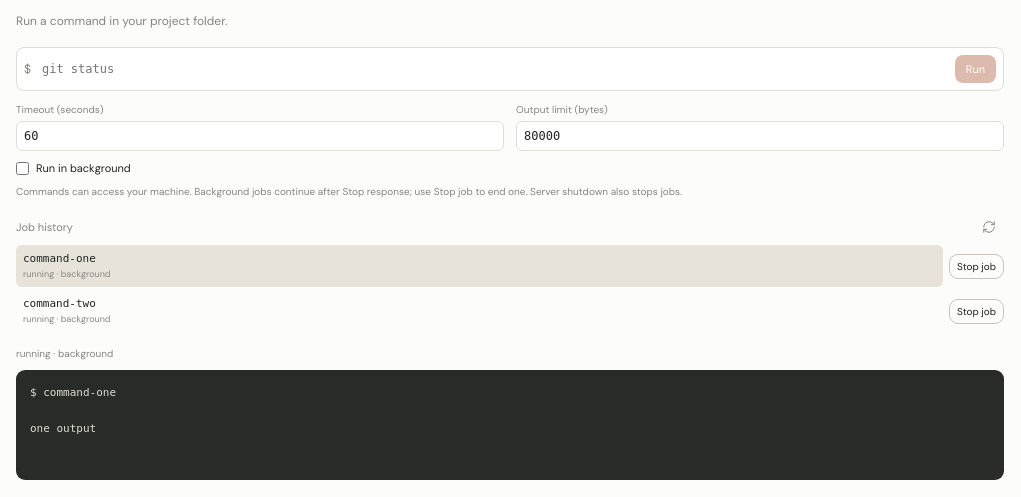
Test case: ignores an old selected-job response after selecting another job
The width and height of the screenshot is (1021, 497).
Click the button with aria-label "Show job command-two · running" at (59, 304), box 16,290 -> 943,332
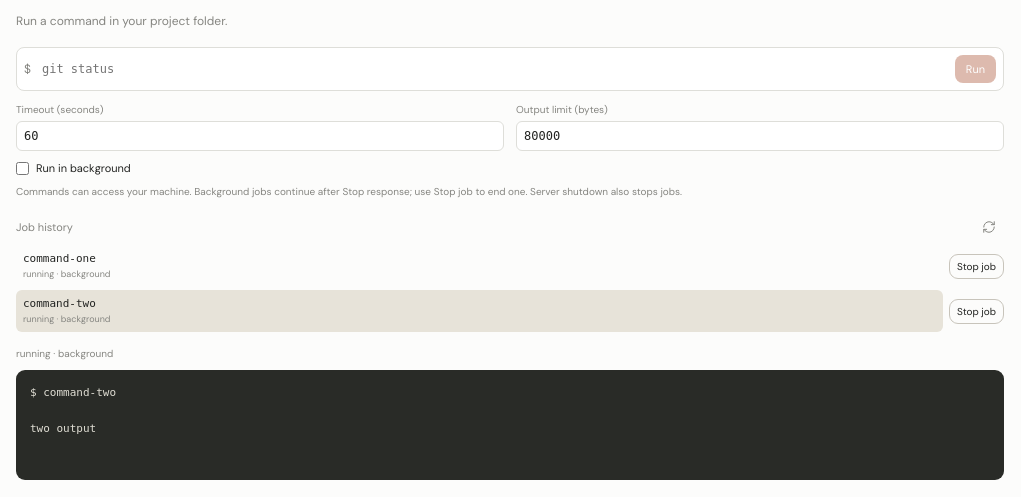
Result: the text named "Job output" shows "two output" at 30,386 -> 116,436
